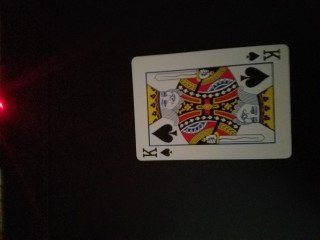KingOfSpades: (130, 44, 293, 160)
